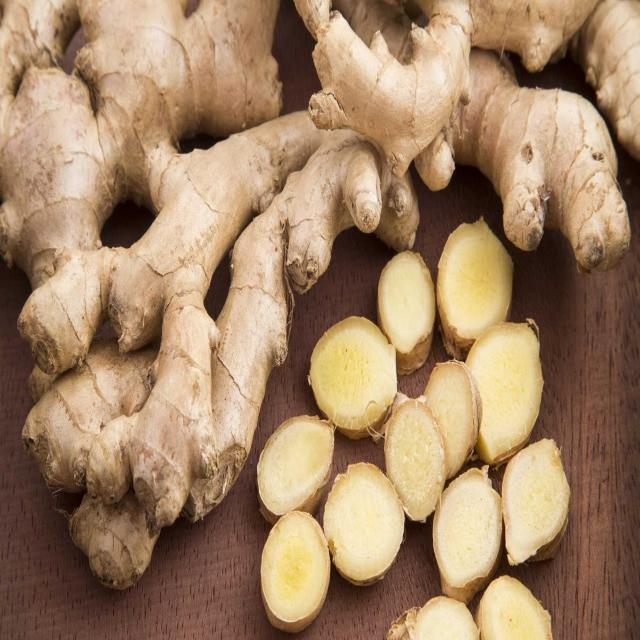ginger: (303, 10, 552, 555), (18, 45, 267, 557)
